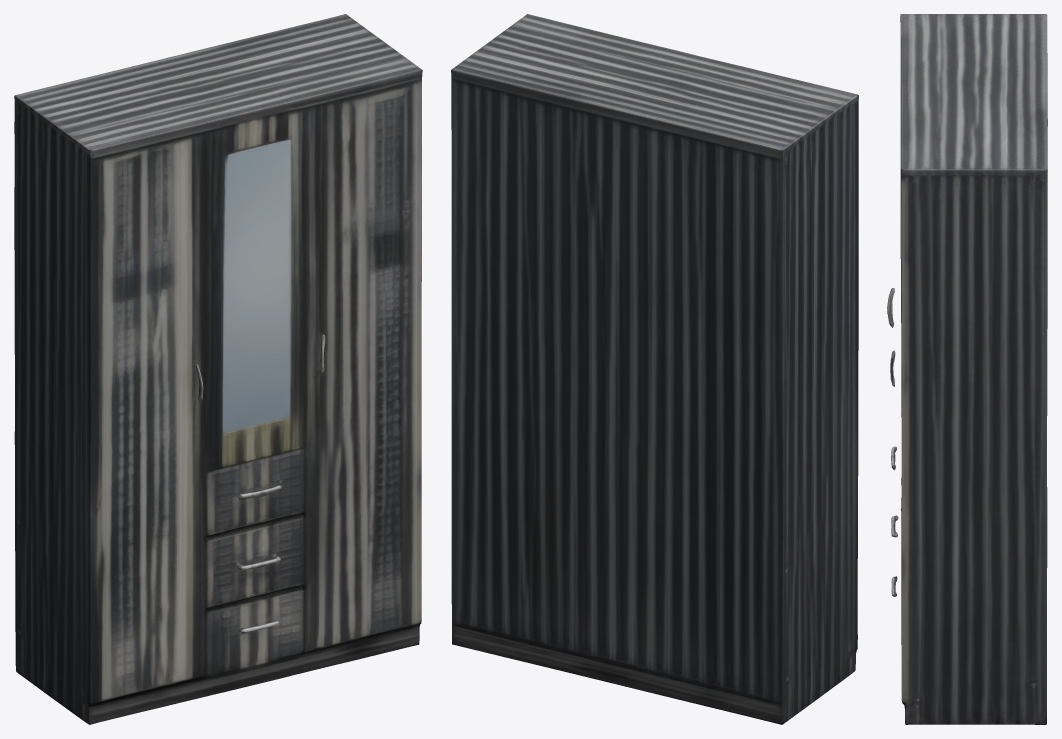
File: mw3mk_2_door_robezebra_tiger_spot.glb
3 views of the same model, side by side, from view 1: azimuth 30°, elevation 25°; view 2: azimuth 150°, elevation 25°; view 3: azimuth 270°, elevation 25° (orthographic). The views are drawn at different scales.
Parts seen in each view (by area): view 1: world; view 2: world; view 3: world.
Boxes of the visible parts, bbox=[...] form: world: bbox=[14, 14, 422, 724]; world: bbox=[451, 14, 858, 724]; world: bbox=[887, 14, 1047, 724].
Bounding box in the file's own units: 0.6036 × 1 × 0.2622.
1 material, 1 textured.
